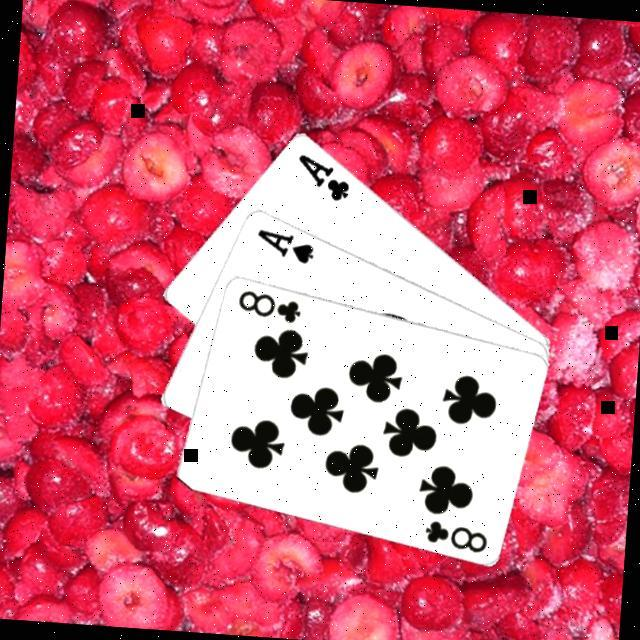8C: (231, 284, 303, 325), (418, 515, 489, 555)
AC: (290, 149, 353, 204)
AS: (250, 224, 316, 266)
